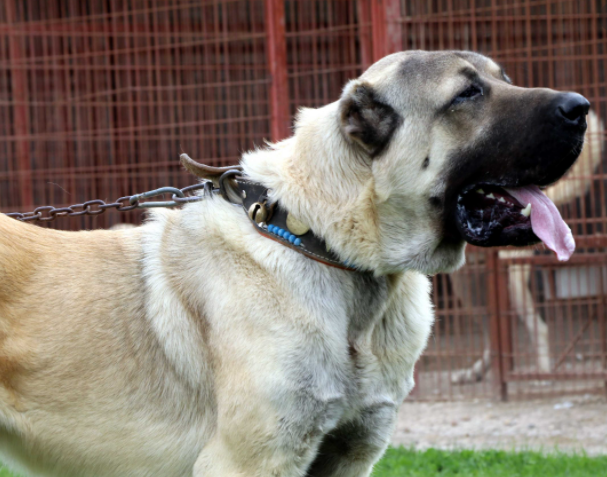dog: (0, 49, 591, 477)
